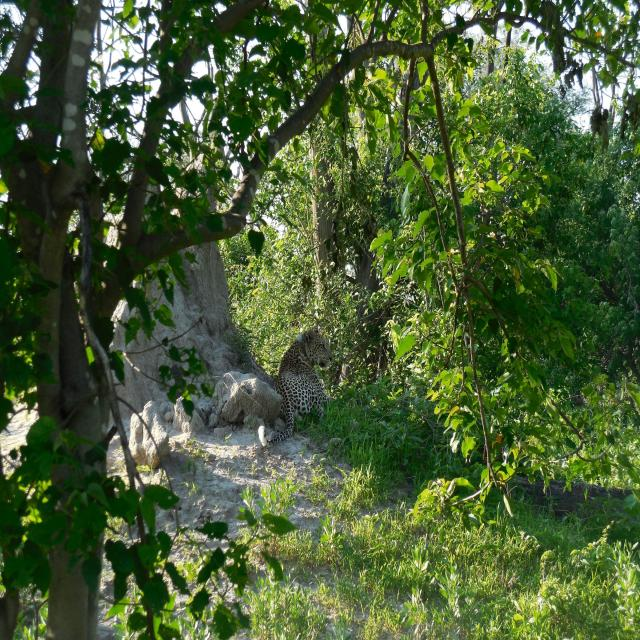Leopard: (263, 320, 343, 437)
